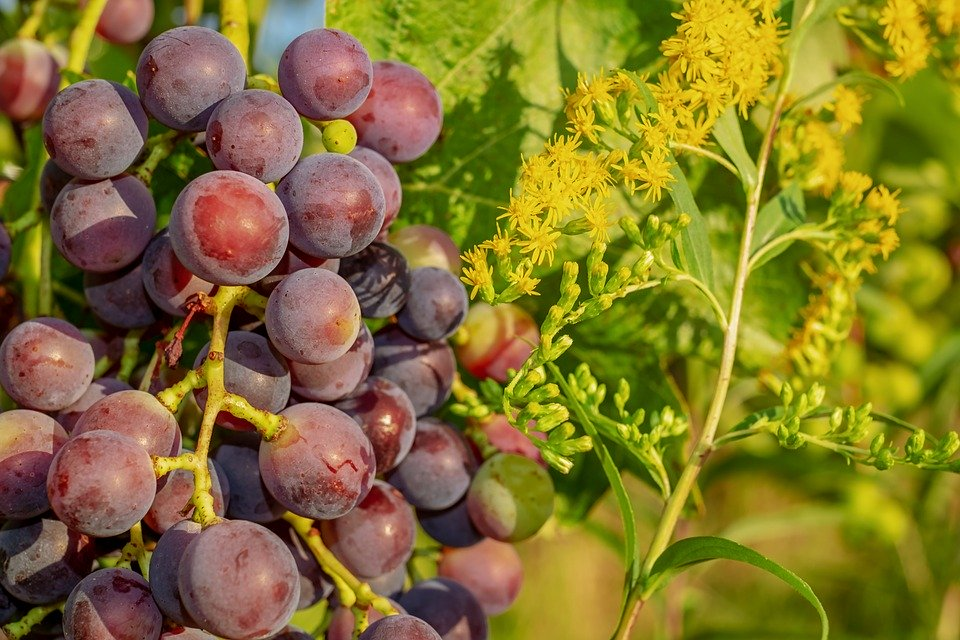Red Grapes: (83, 109, 442, 596)
